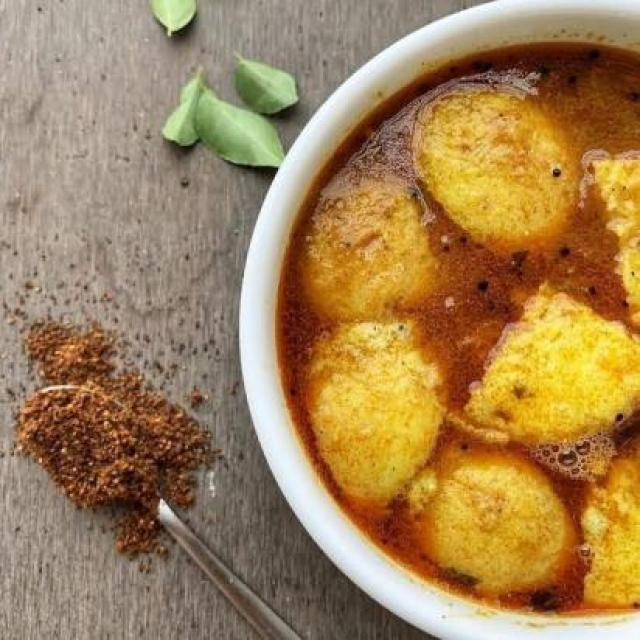idli: (260, 306, 472, 510), (280, 156, 492, 340), (384, 417, 582, 611), (447, 271, 640, 451), (406, 77, 594, 260), (587, 132, 640, 330)
